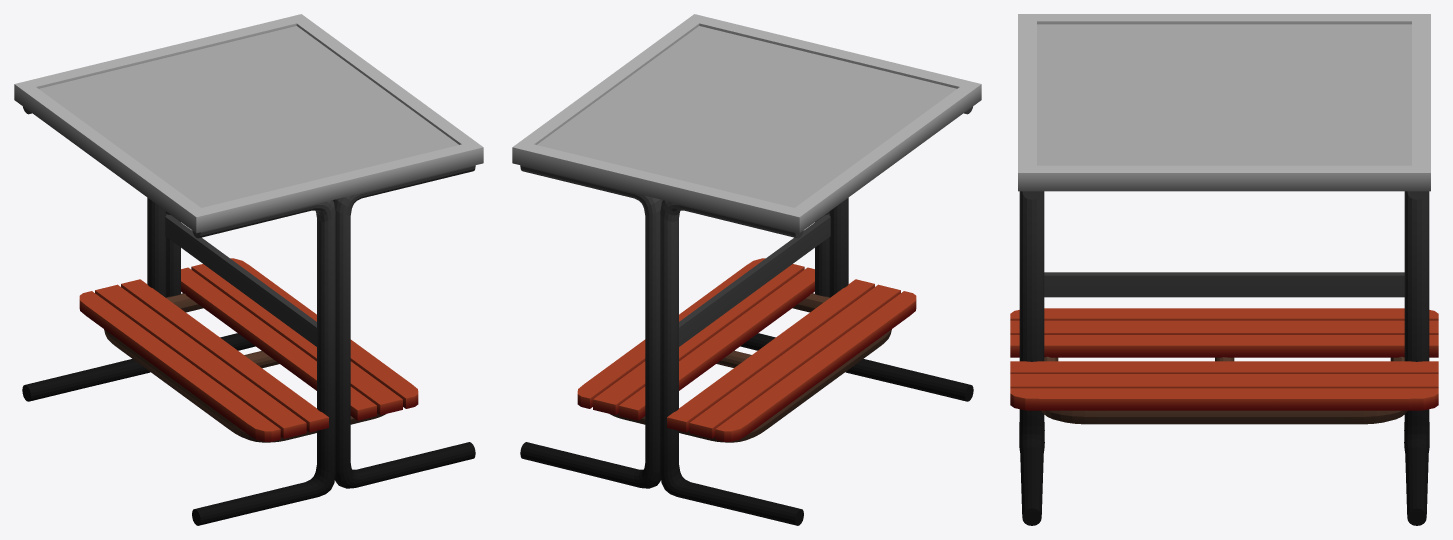
The model's file is Bench_Roofed.fbx.
The picture shows the model from 3 angles, left to right: view 1: azimuth 30°, elevation 25°; view 2: azimuth 150°, elevation 25°; view 3: azimuth 270°, elevation 25°; orthographic projection. The views are drawn at different scales.
Visible parts, largest first — view 1: Cylinder.046; view 2: Cylinder.046; view 3: Cylinder.046.
Part boxes in pixels (bbox=[...]): Cylinder.046: bbox=[14, 14, 483, 525]; Cylinder.046: bbox=[512, 14, 981, 525]; Cylinder.046: bbox=[1010, 14, 1438, 525].
Size of the model in its own units: 377 by 394 by 429.
